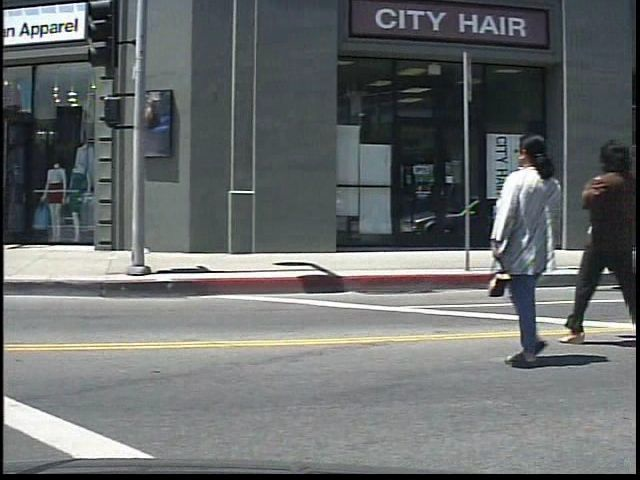person: (498, 120, 585, 370), (569, 125, 639, 350)
